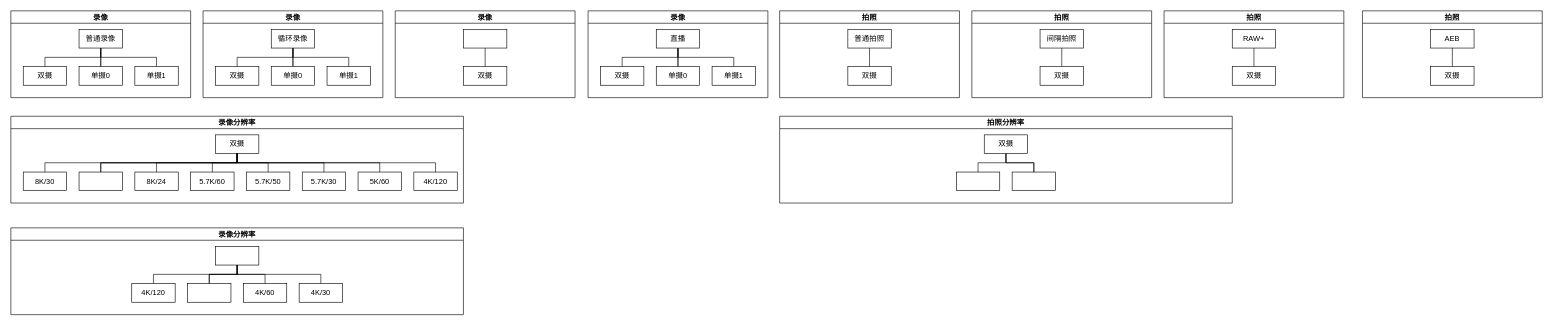
This 1553x326 diagram has some shape labels left out. Each missing label, with the centre of its shape:
14K: the point at 978,181
4K/100: the point at 209,292
8K: the point at 1034,181
8K/25: the point at 100,181
单摄0/1: the point at 237,255
延迟录像: the point at 485,38
